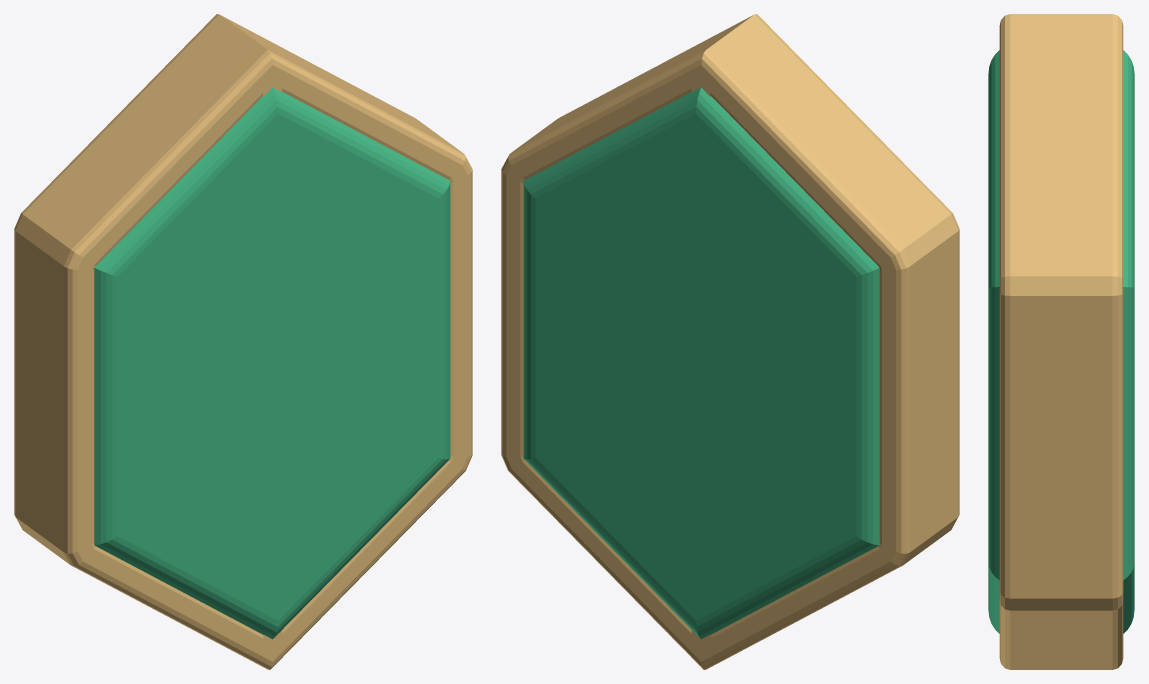
Rendered from panna-geometric-studs.glb.
3 views of the same model, side by side, from view 1: azimuth 30°, elevation 25°; view 2: azimuth 150°, elevation 25°; view 3: azimuth 270°, elevation 25° (orthographic). The views are drawn at different scales.
Visible parts, largest first — view 1: panna-geometric-studs; view 2: panna-geometric-studs; view 3: panna-geometric-studs.
Boxes of the visible parts, left/top/right/bottom form: panna-geometric-studs: left=14, top=14, right=472, bottom=669; panna-geometric-studs: left=501, top=14, right=959, bottom=669; panna-geometric-studs: left=988, top=14, right=1134, bottom=669.
Size of the model in its own units: 1.16 by 1.69 by 0.34.
